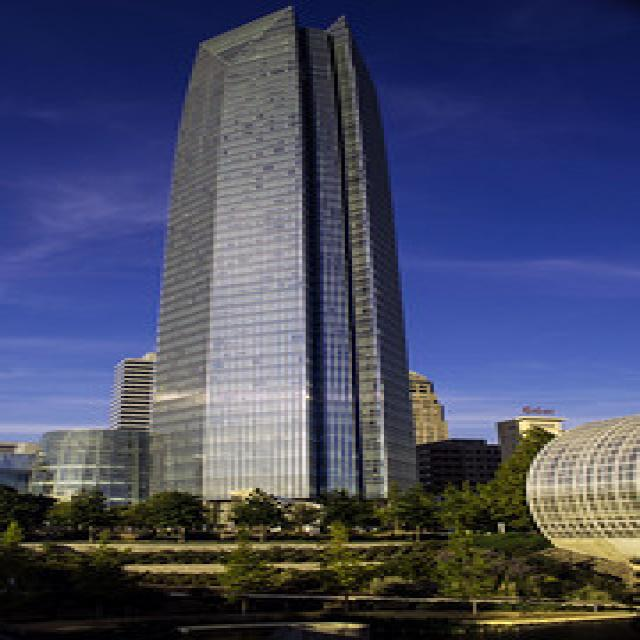Normal_building: (142, 4, 430, 514)
